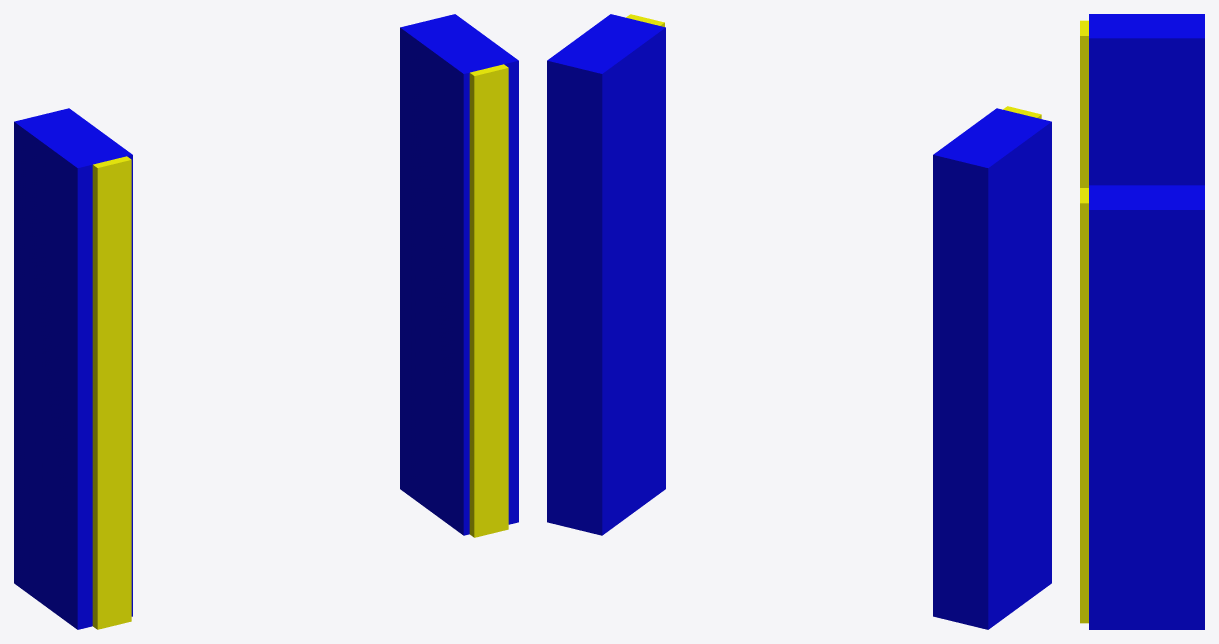
Rendered from ARCH_BOT_SIMPLe.fbx.
The picture shows the model from 3 angles, left to right: view 1: azimuth 30°, elevation 25°; view 2: azimuth 150°, elevation 25°; view 3: azimuth 270°, elevation 25°; orthographic projection. The views are drawn at different scales.
Visible parts, largest first — view 1: ARCH_BOT_SIMPLE; view 2: ARCH_BOT_SIMPLE; view 3: ARCH_BOT_SIMPLE.
Boxes of the visible parts, x1,y1,x2,y2 form: ARCH_BOT_SIMPLE: (14,14,518,629); ARCH_BOT_SIMPLE: (547,14,1051,629); ARCH_BOT_SIMPLE: (1080,14,1204,629).
Bounding box in the file's own units: 400 × 400 × 108.
